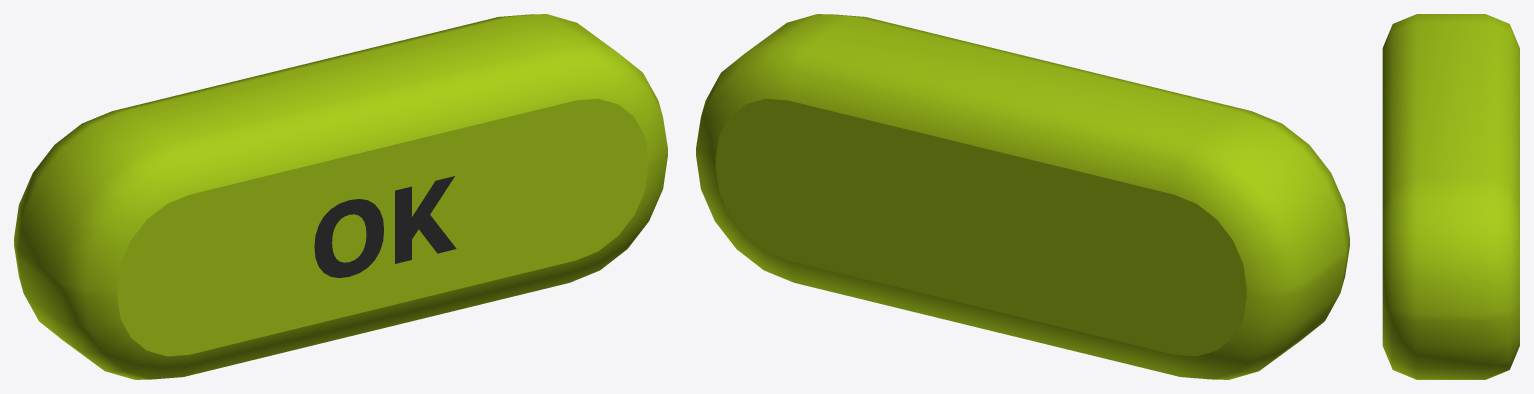
The model's file is tiny-button.glb.
3 renders of one model, left to right at view 1: azimuth 30°, elevation 25°; view 2: azimuth 150°, elevation 25°; view 3: azimuth 270°, elevation 25°, orthographic. The views are drawn at different scales.
Visible parts, largest first — view 1: tiny-button; view 2: tiny-button; view 3: tiny-button.
Boxes of the visible parts, x1=… form: tiny-button: x1=14, y1=14, x2=667, y2=379; tiny-button: x1=696, y1=14, x2=1349, y2=379; tiny-button: x1=1382, y1=14, x2=1519, y2=379.
Bounding box in the file's own units: 0.15 × 0.056 × 0.0372.
